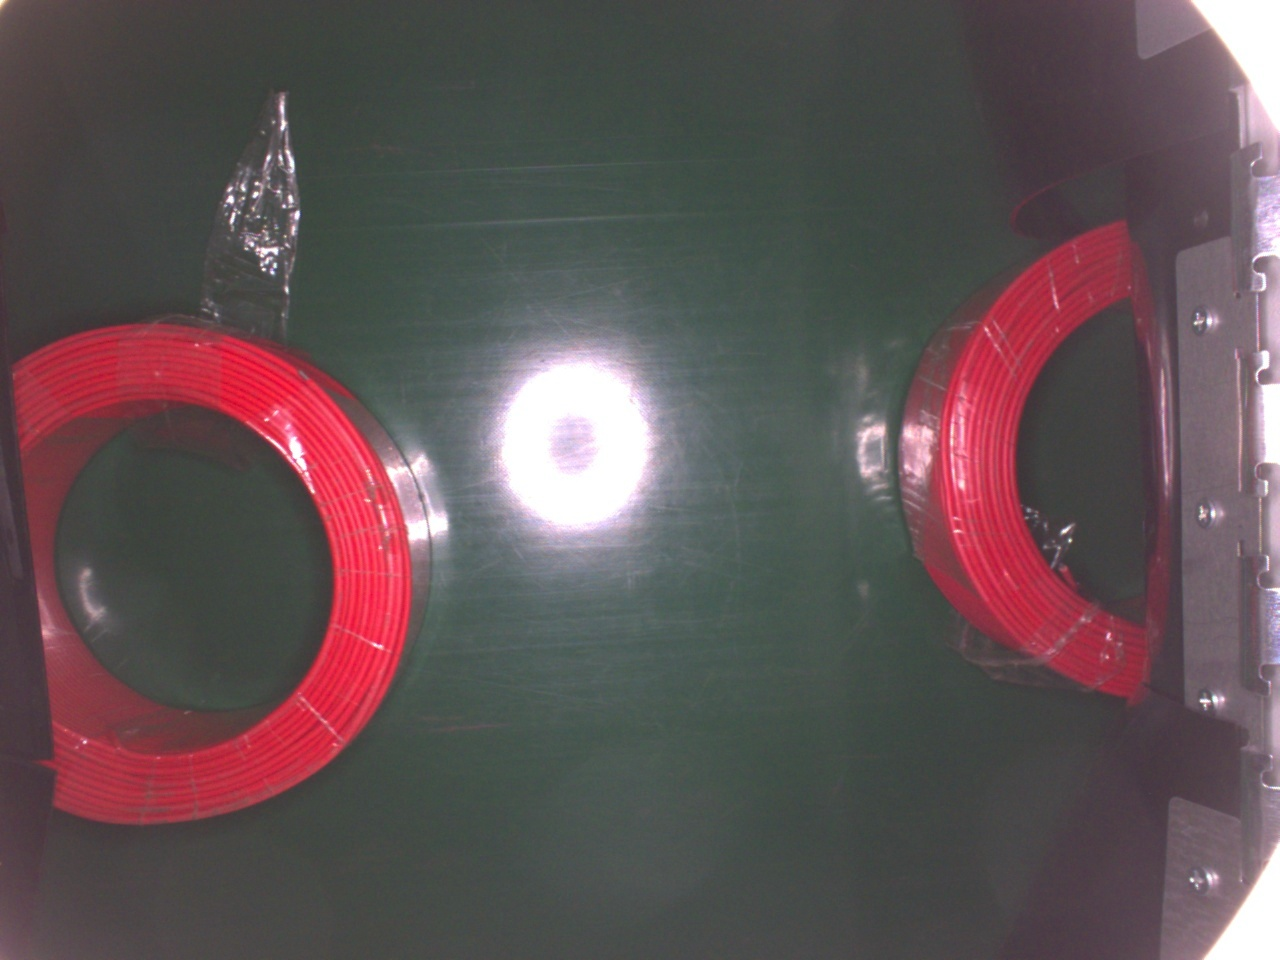red: (12, 319, 430, 840), (897, 216, 1148, 707)
